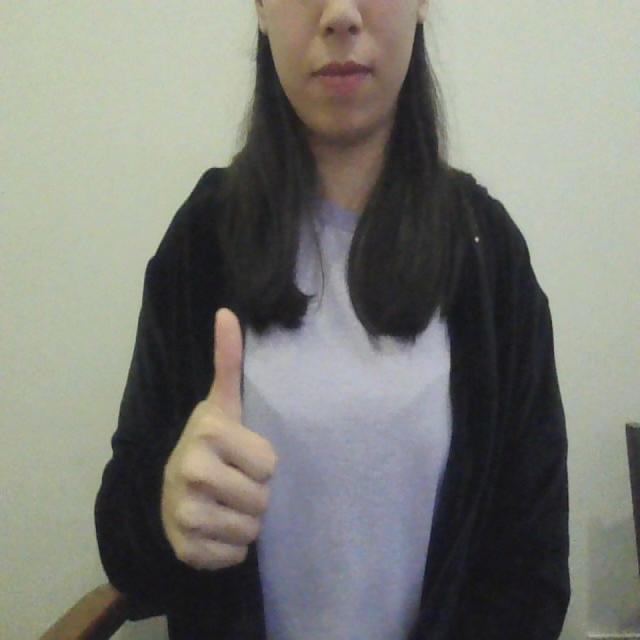Tamam: (149, 300, 282, 585)
